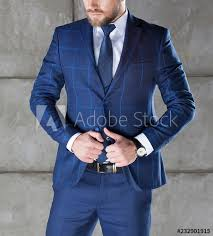F_M_suit jacket: (27, 11, 203, 194)
F_belt: (78, 158, 135, 178)
F_dress pants: (40, 171, 155, 236)
F_tie: (90, 21, 123, 94)
